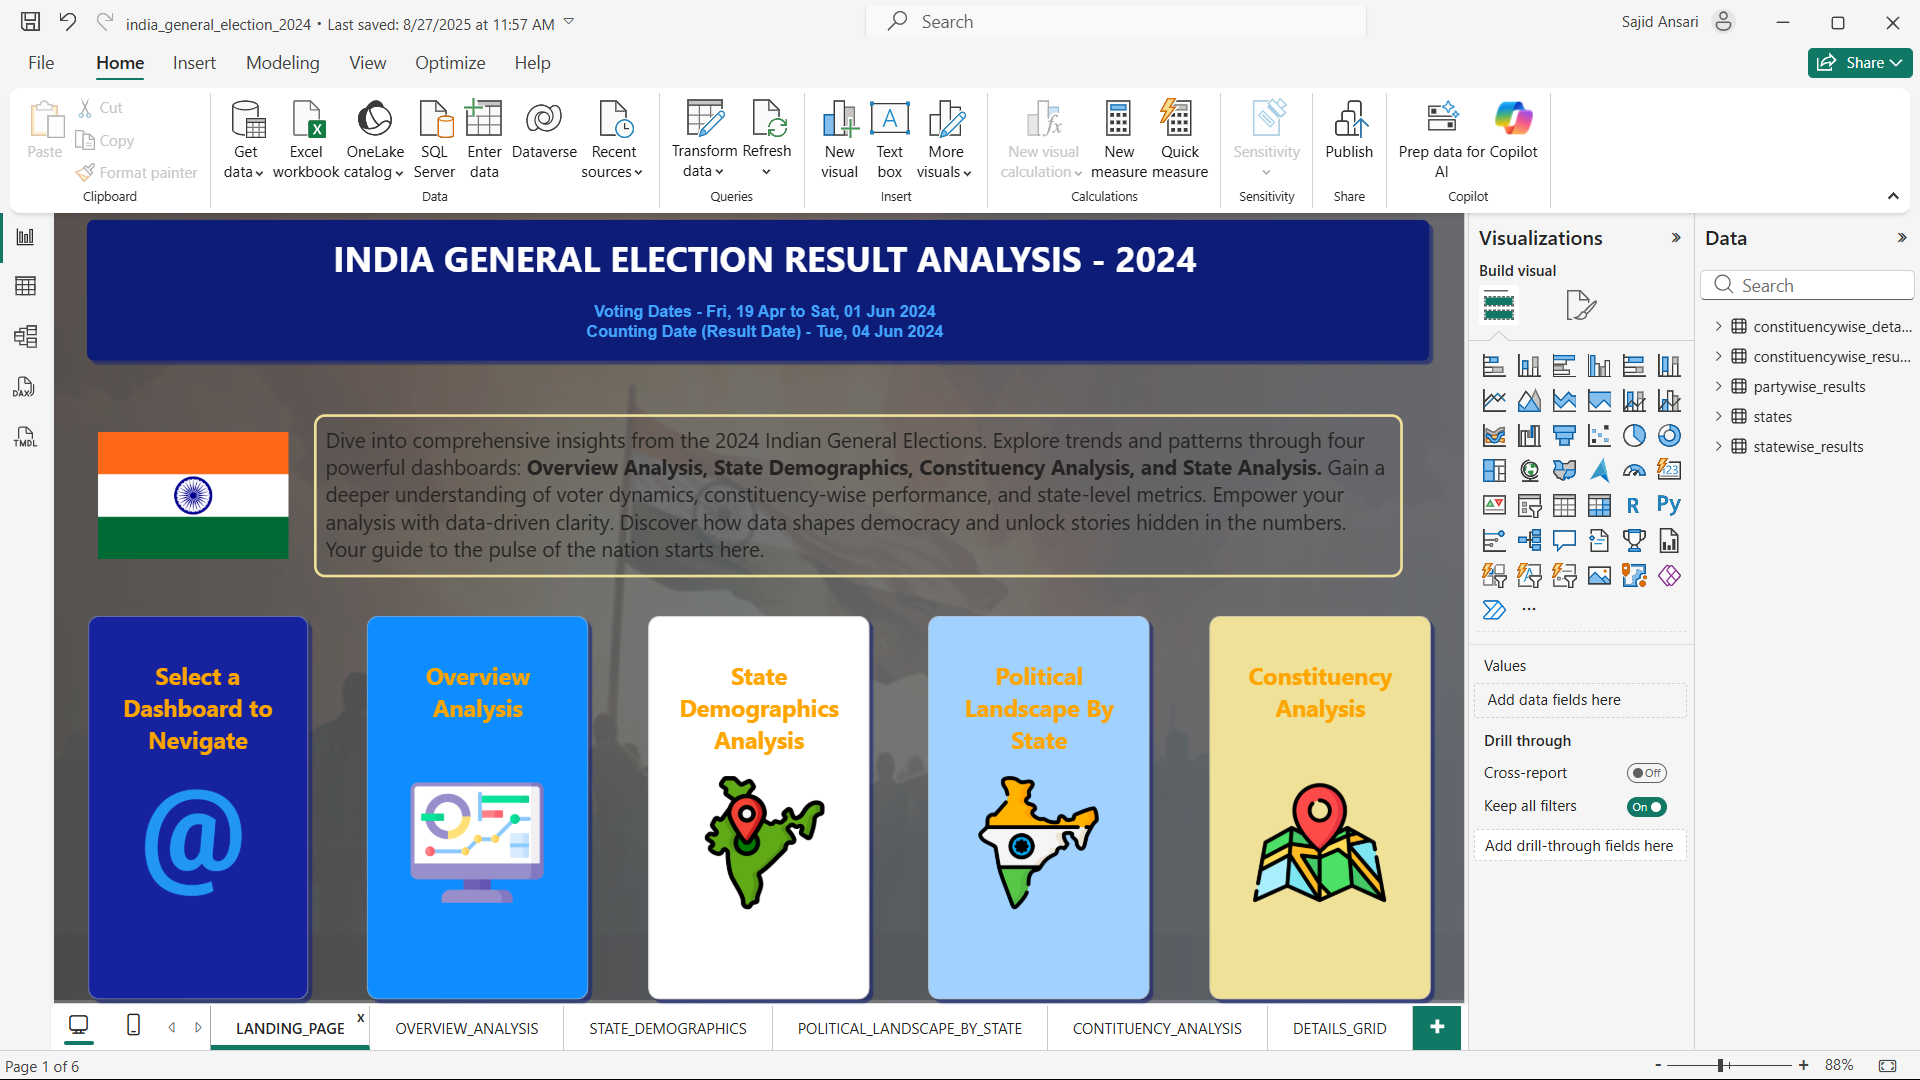

The dashboard page shown, as its layout file describes it:
{"tool":"powerbi","page":{"name":"LANDING_PAGE","canvas":[1280,720],"ordinal":0},"visuals":[{"type":"shape","box":[24.1,0,1230.3,140.1],"z":0},{"type":"textbox","box":[35.3,15.3,1220,124.7],"z":1000},{"type":"textbox","box":[236.5,182.4,988.2,148.2],"z":2000},{"type":"image","box":[35.3,194.1,182.4,124.7],"z":3000},{"type":"shape","box":[24.7,360,211.8,360],"z":4000},{"type":"shape","box":[278.2,360,212.9,360],"z":5000},{"type":"shape","box":[532.9,360,212.9,360],"z":6000},{"type":"shape","box":[787.6,360,212.9,360],"z":7000},{"type":"shape","box":[1042.4,360,212.9,360],"z":8000},{"type":"textbox","box":[35.3,400,190.6,101.2],"z":9000},{"type":"textbox","box":[289.4,400,190.6,101.2],"z":10000},{"type":"textbox","box":[544.7,400,190.6,101.2],"z":11000},{"type":"textbox","box":[798.8,400,190.6,101.2],"z":12000},{"type":"textbox","box":[1054.1,400,190.6,101.2],"z":13000},{"type":"image","box":[61.2,501.2,130.6,140],"z":14000},{"type":"image","box":[828.2,501.2,130.6,140],"z":15000},{"type":"image","box":[318.8,501.2,130.6,140],"z":16000},{"type":"image","box":[580,501.2,130.6,140],"z":17000},{"type":"image","box":[1083.5,501.2,130.6,140],"z":18000}]}

Visuals, with their boxes on the page's 1280x720 design canvas (x1, y1, x2, y2). These are canvas units, not pixel positions in the 1920x1080 screenshot, which may show the page scaled, cropped or inside an application window:
shape: detection(24, 0, 1254, 140)
textbox: detection(35, 15, 1255, 140)
textbox: detection(236, 182, 1225, 331)
image: detection(35, 194, 218, 319)
shape: detection(25, 360, 236, 720)
shape: detection(278, 360, 491, 720)
shape: detection(533, 360, 746, 720)
shape: detection(788, 360, 1000, 720)
shape: detection(1042, 360, 1255, 720)
textbox: detection(35, 400, 226, 501)
textbox: detection(289, 400, 480, 501)
textbox: detection(545, 400, 735, 501)
textbox: detection(799, 400, 989, 501)
textbox: detection(1054, 400, 1245, 501)
image: detection(61, 501, 192, 641)
image: detection(828, 501, 959, 641)
image: detection(319, 501, 449, 641)
image: detection(580, 501, 711, 641)
image: detection(1084, 501, 1214, 641)
